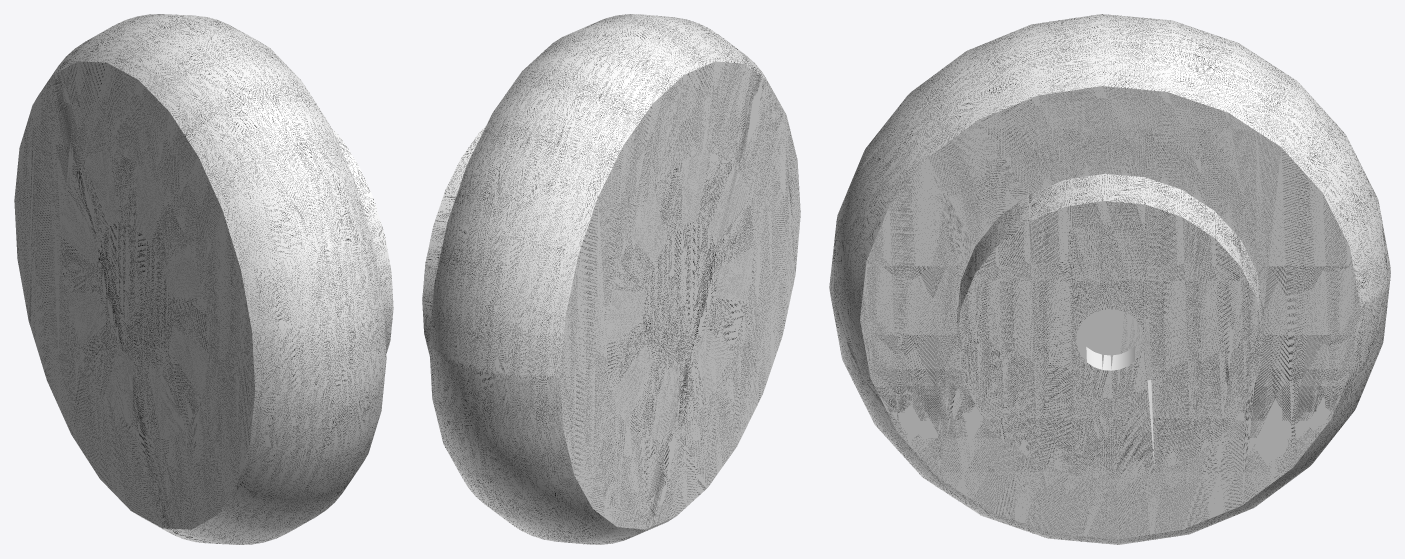
3 views of the same model, side by side, from view 1: azimuth 30°, elevation 25°; view 2: azimuth 150°, elevation 25°; view 3: azimuth 270°, elevation 25° (orthographic). The views are drawn at different scales.
Size of the model in its own units: 0.0977 by 0.2474 by 0.2472.
